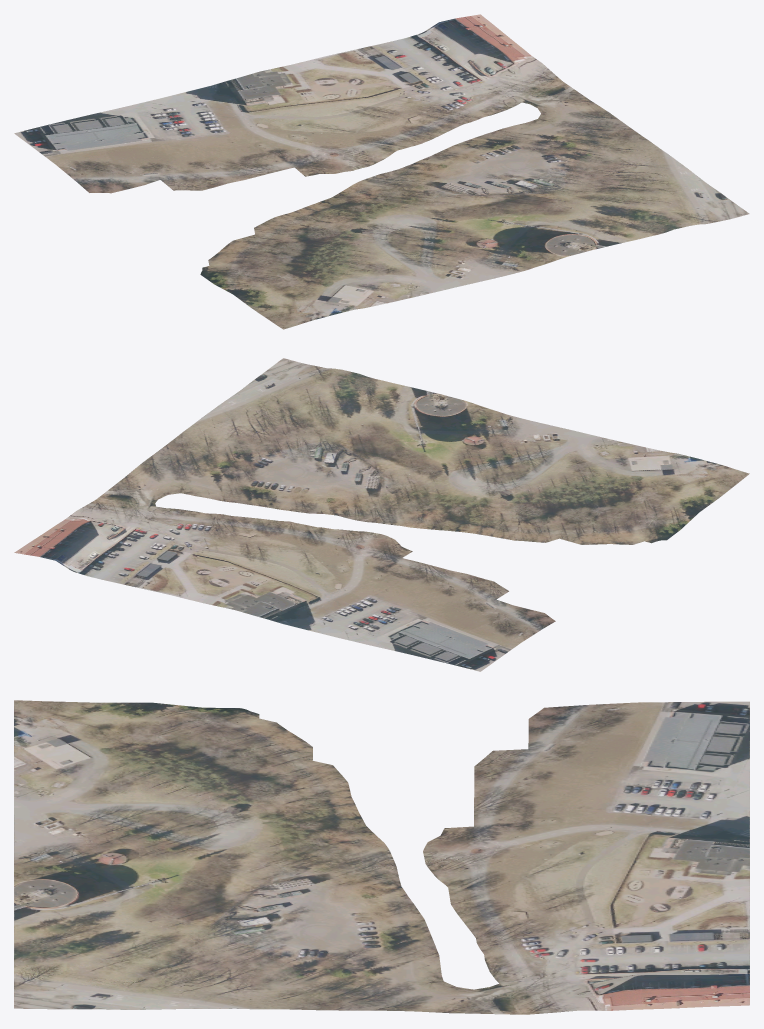
The model's file is CM_Terrain_24487592_6819999.fbx.
3 views of the same model, one above another, from view 1: azimuth 30°, elevation 25°; view 2: azimuth 150°, elevation 25°; view 3: azimuth 270°, elevation 25° (orthographic). The views are drawn at different scales.
Parts seen in each view (by area): view 1: CM_Terrain_24487592_6819999_LOD0; view 2: CM_Terrain_24487592_6819999_LOD0; view 3: CM_Terrain_24487592_6819999_LOD0.
Part boxes in pixels (x1,y1,x2,y2): CM_Terrain_24487592_6819999_LOD0: (14,14,749,329); CM_Terrain_24487592_6819999_LOD0: (14,358,749,671); CM_Terrain_24487592_6819999_LOD0: (14,700,749,1014).
Size of what is drawn, in the model's own units: 205 by 5.3 by 205.
